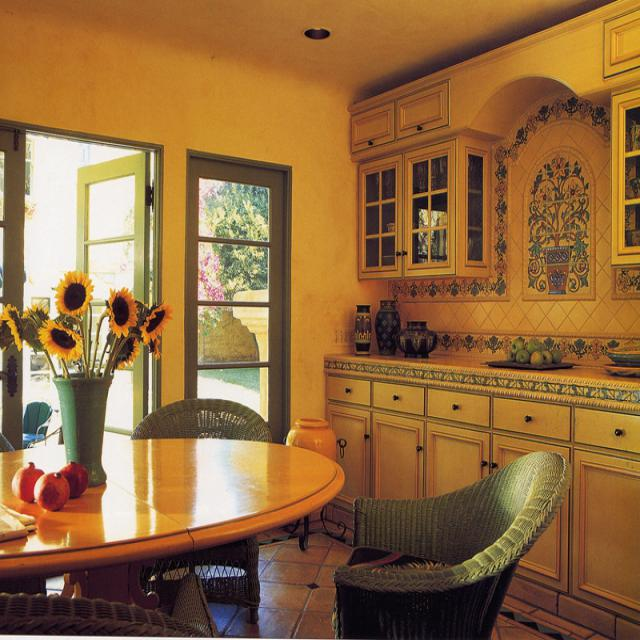apple: (509, 336, 526, 353), (526, 337, 542, 353), (549, 348, 563, 361), (542, 349, 552, 362), (506, 348, 515, 359), (541, 341, 546, 349)
bowl -X: (606, 343, 639, 366)
cabinet door: (489, 432, 570, 591), (571, 447, 639, 621), (426, 421, 490, 496), (326, 403, 370, 512), (374, 410, 424, 498), (397, 79, 449, 140), (603, 9, 639, 79), (351, 101, 394, 154)
cabinets: (348, 0, 638, 279)
ceiling beam: (1, 1, 607, 105)
ceiling vent: (300, 25, 334, 43)
door bars: (184, 148, 292, 444), (74, 153, 149, 439), (1, 129, 26, 450)
door mat: (2, 353, 18, 397)
drawer handle: (493, 395, 570, 442), (574, 405, 639, 453), (427, 386, 490, 427), (373, 380, 425, 416), (328, 373, 370, 406)
flowers: (2, 268, 174, 378)
newspaper: (1, 501, 38, 541)
patio chair: (24, 399, 54, 447)
plate food: (480, 359, 581, 369), (601, 362, 639, 377)
pomagranite: (34, 471, 70, 511), (11, 461, 45, 502), (60, 460, 88, 499)
pot: (281, 415, 347, 551)
pot hanger: (398, 319, 435, 358)
table -X: (1, 437, 345, 607)
vase -X: (50, 371, 114, 489), (374, 299, 401, 355), (353, 304, 370, 352)
wicker chair: (330, 448, 571, 639), (129, 397, 272, 624), (0, 571, 219, 636)
